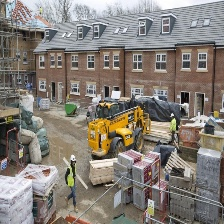helmet: (69, 153, 79, 164), (169, 111, 174, 120)
person: (64, 152, 80, 214), (169, 111, 178, 146)
